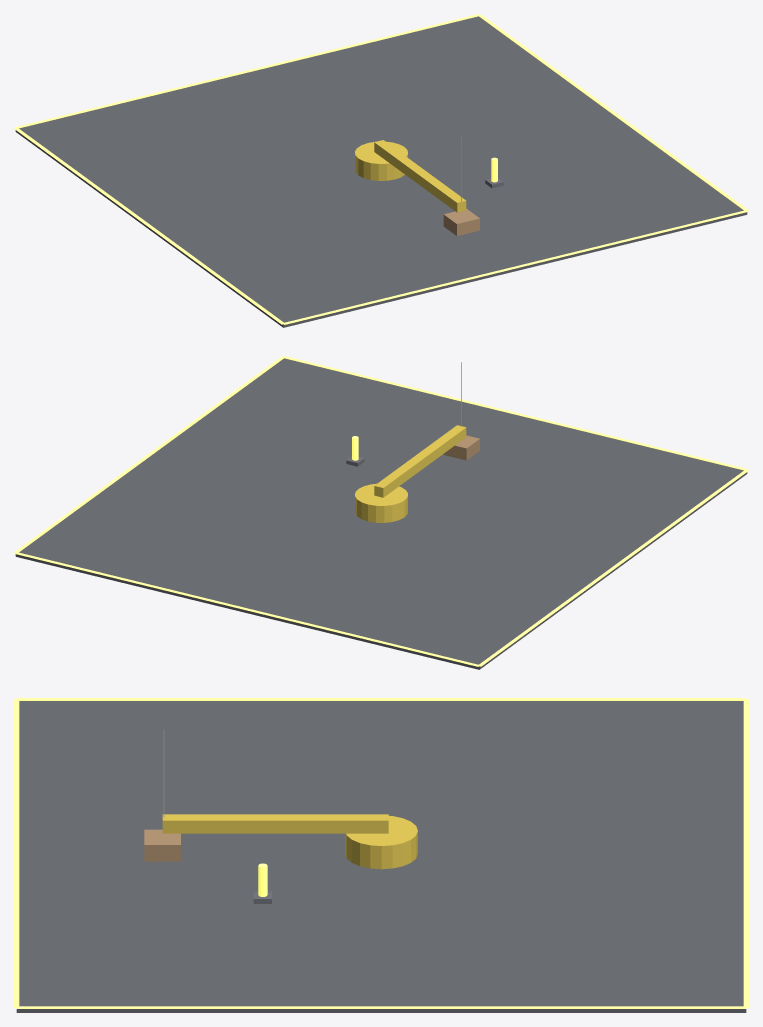
File: sim-rigging-signals.glb
3 views of the same model, one above another, from view 1: azimuth 30°, elevation 25°; view 2: azimuth 150°, elevation 25°; view 3: azimuth 270°, elevation 25° (orthographic). The views are drawn at different scales.
Visible parts, largest first — view 1: Rigging Signal Call; view 2: Rigging Signal Call; view 3: Rigging Signal Call.
Part boxes in pixels (x1,y1,x2,y2): Rigging Signal Call: (14, 14, 748, 327); Rigging Signal Call: (14, 356, 748, 669); Rigging Signal Call: (14, 698, 748, 1012).
Size of the model in its own units: 40.3 by 7.8 by 40.3.
